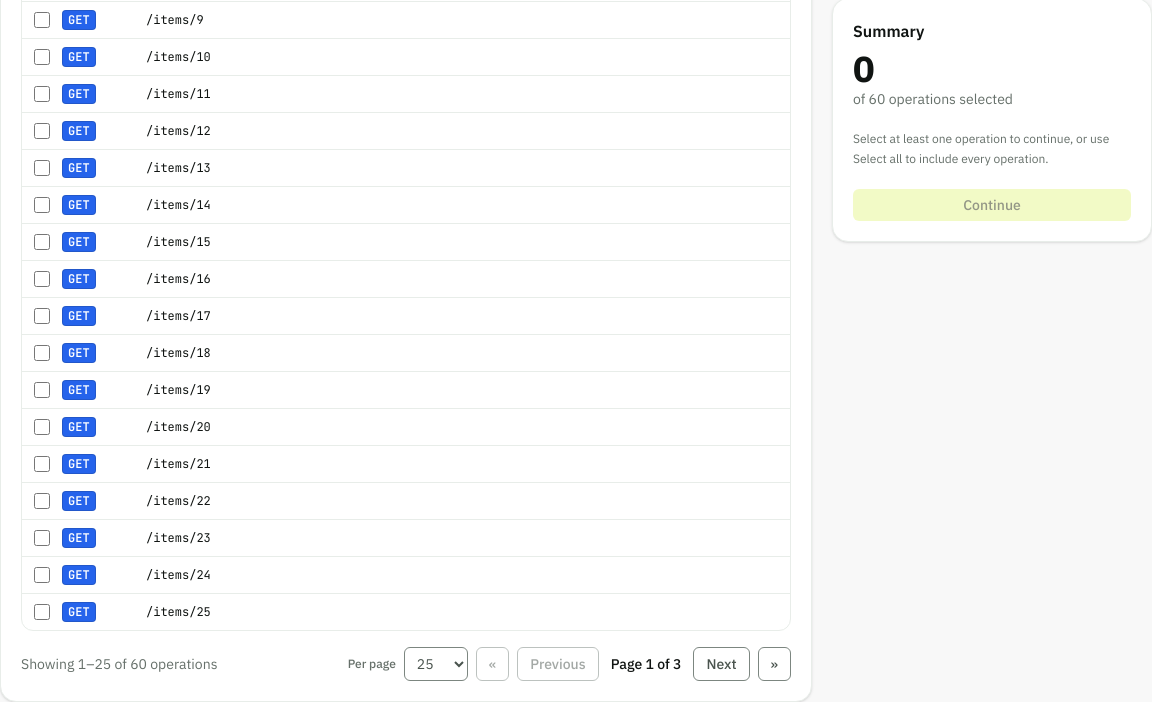
Test: ApiReviewStage pagination › returns to the first page when the page size changes
(page scrolled)
Click the button "Next": click(721, 664) x1=693 y1=647 x2=750 y2=681
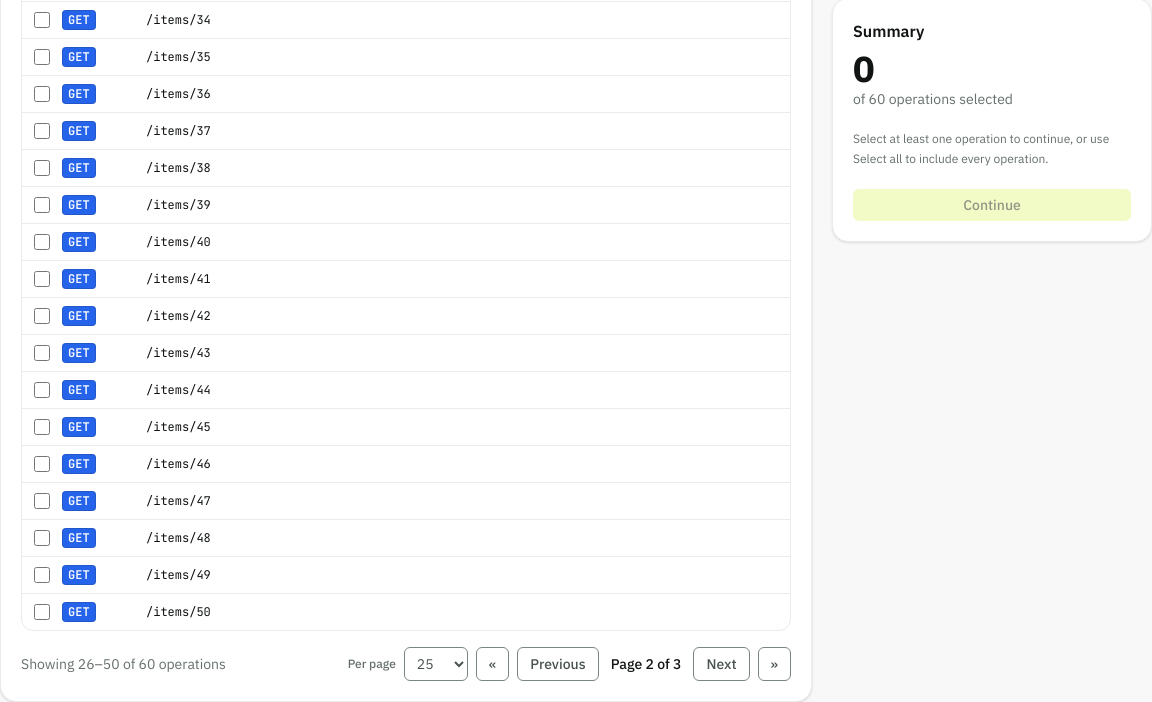
Select "50" in the dropdown labelled "Per page": (436, 664) x1=404 y1=647 x2=468 y2=681
(page scrolled)
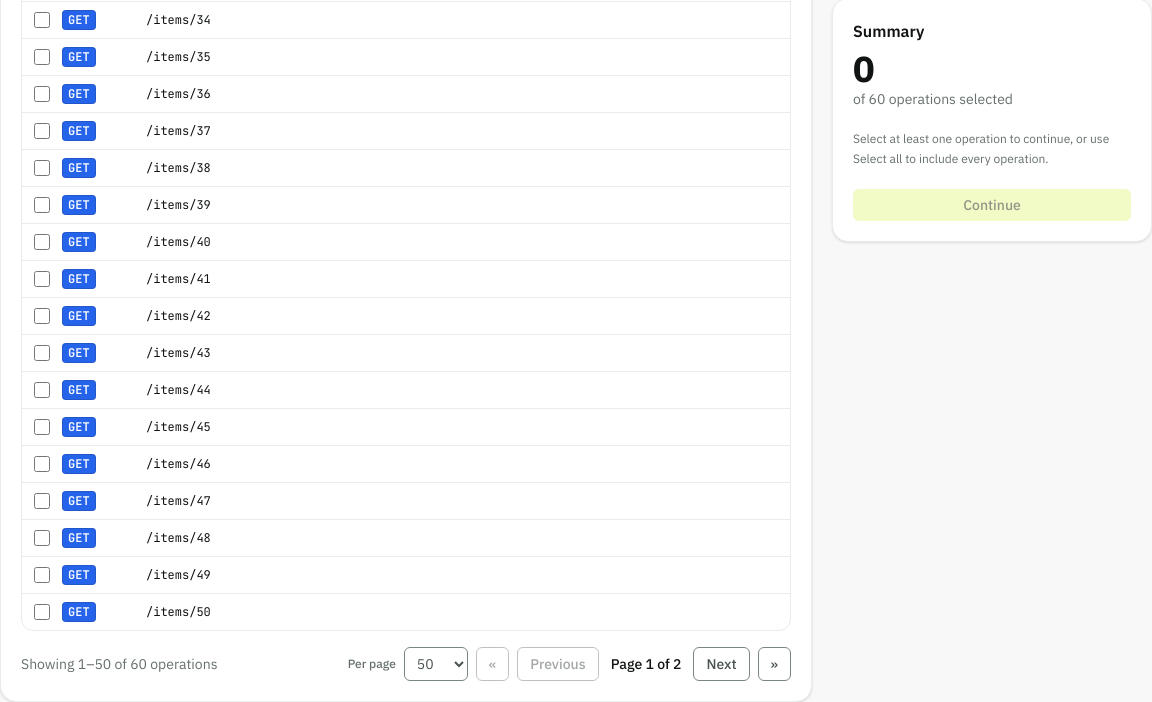
Check: the text "Showing 1–50 of 60 operations" is shown, box x1=21 y1=654 x2=218 y2=674
Check: the text "Page 1 of 2" is shown, box x1=607 y1=654 x2=685 y2=674
